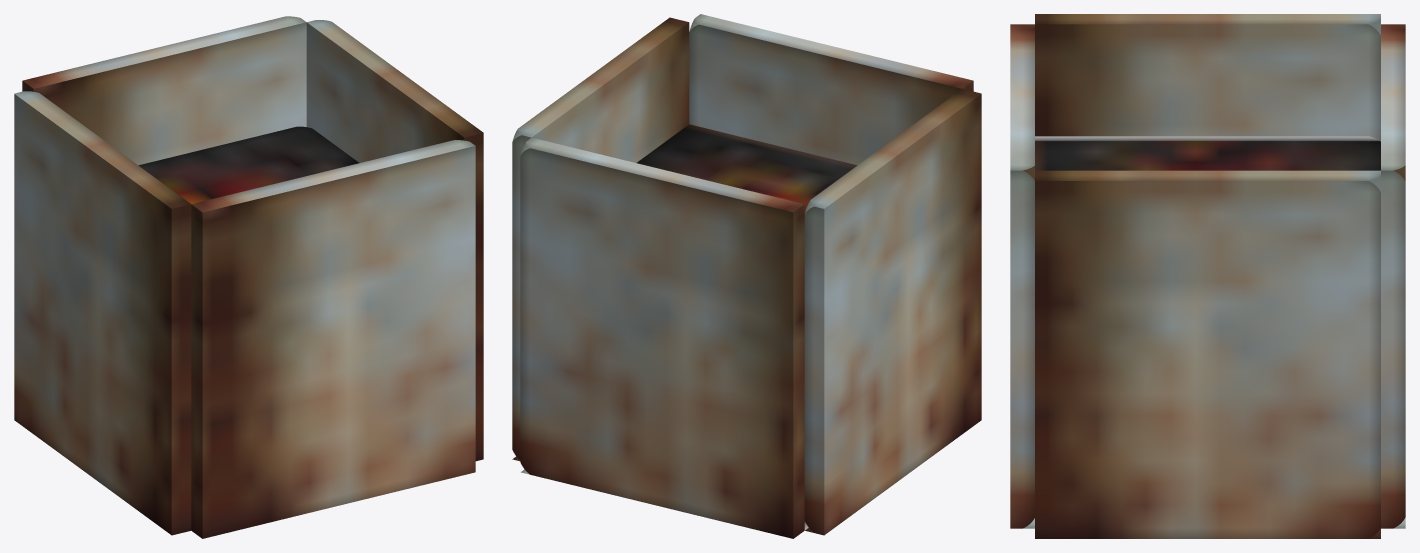
Rendered from can_fire.obj.
3 views of the same model, side by side, from view 1: azimuth 30°, elevation 25°; view 2: azimuth 150°, elevation 25°; view 3: azimuth 270°, elevation 25° (orthographic). The views are drawn at different scales.
Parts seen in each view (by area): view 1: nz, nA, ny, nB, nx; view 2: ny, nA, nz, nB, nx; view 3: nB, nA, ny, nz, nx.
Boxes of the visible parts, bbox=[...] form: nz: bbox=[191, 140, 475, 538]; nA: bbox=[14, 91, 191, 535]; ny: bbox=[22, 16, 306, 165]; nB: bbox=[306, 20, 483, 461]; nx: bbox=[138, 126, 359, 203]; ny: bbox=[520, 137, 804, 538]; nA: bbox=[804, 89, 981, 535]; nz: bbox=[689, 14, 973, 165]; nB: bbox=[512, 17, 689, 461]; nx: bbox=[636, 124, 857, 530]; nB: bbox=[1035, 170, 1380, 538]; nA: bbox=[1035, 14, 1380, 141]; ny: bbox=[1381, 24, 1405, 528]; nz: bbox=[1010, 24, 1034, 528]; nx: bbox=[1035, 136, 1380, 170].
Size of the model in its own units: 0.5 by 0.5 by 0.5.
1 material, 1 textured.
